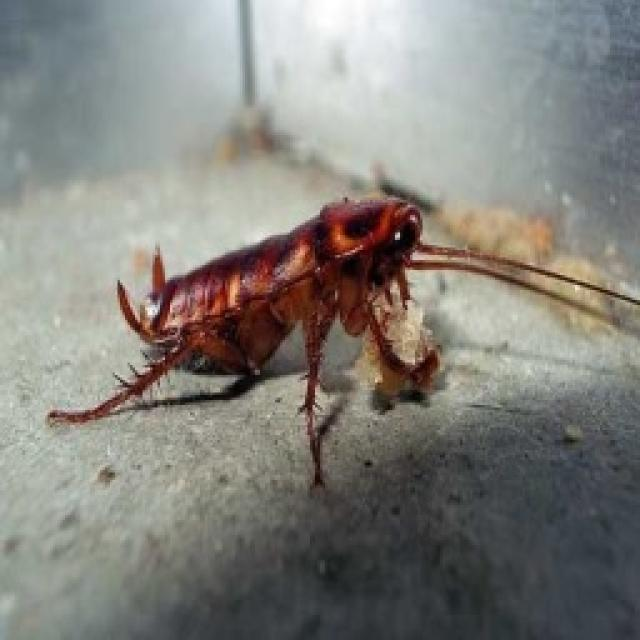cockroach: (43, 177, 637, 497)
